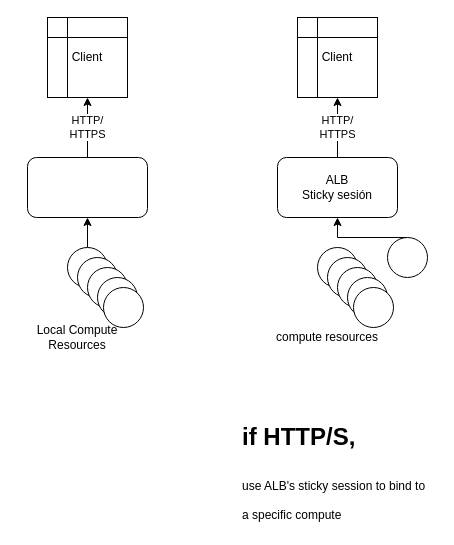
Image size: 454x545. Some labels were removed from this diagram. The shapes that lost their labels are listed below. From the top down, each one's centre as x and y in pixels, then its label:
the point at 87,187: Single server
the point at 407,257: specific instance
